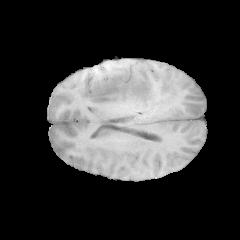glioma: (91, 69, 177, 125)
